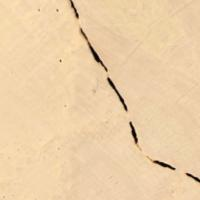crack: (69, 0, 199, 191)
